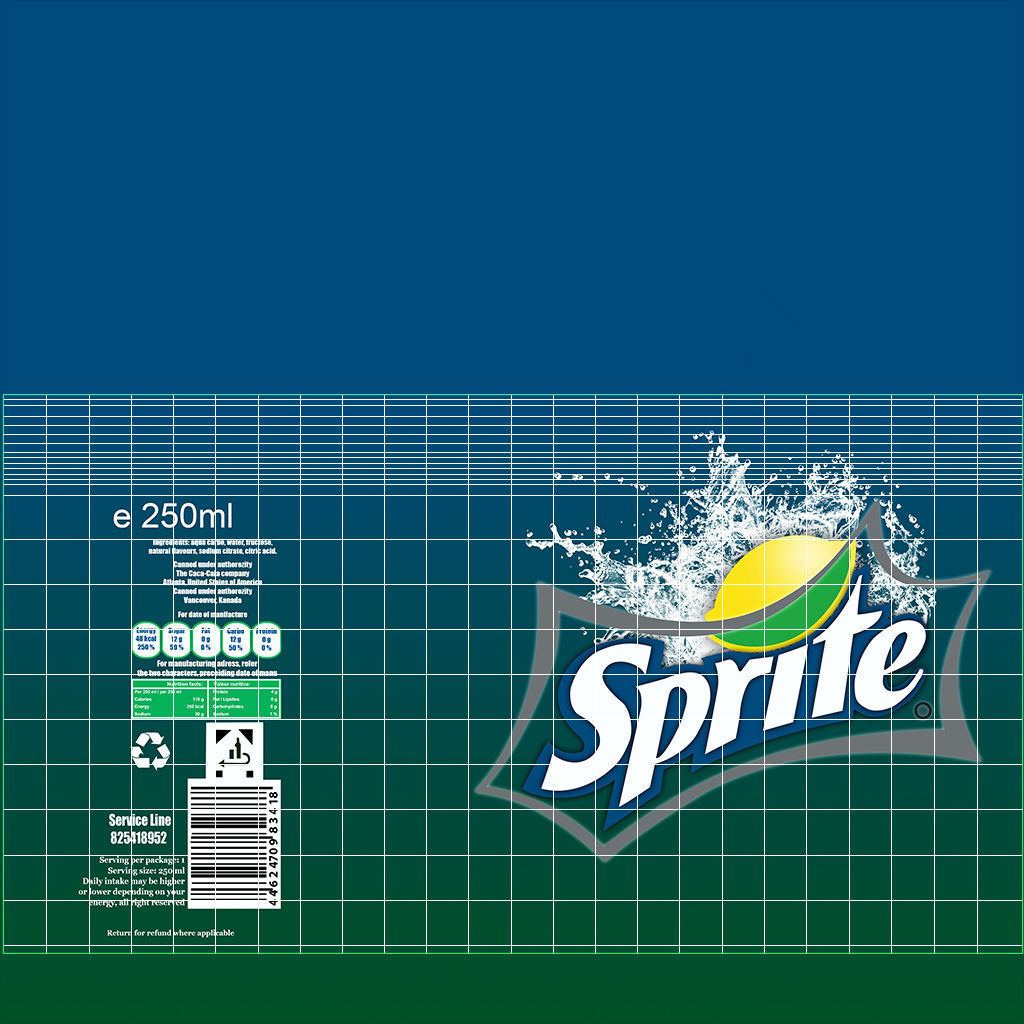sprite: (533, 576, 929, 815)
